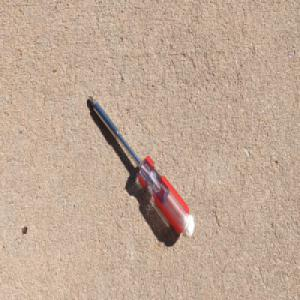Screwdriver: (87, 93, 195, 241)
